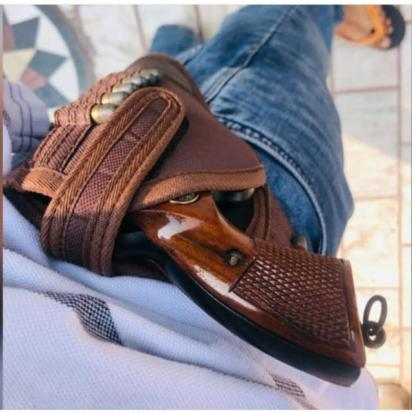Gun: (4, 50, 387, 392)
